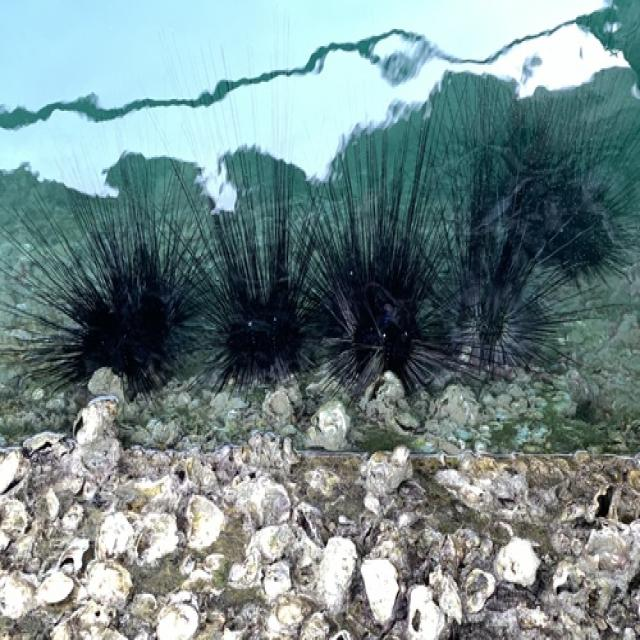Urchin: (18, 157, 207, 394), (297, 114, 444, 400), (166, 136, 320, 388), (414, 183, 596, 377)
